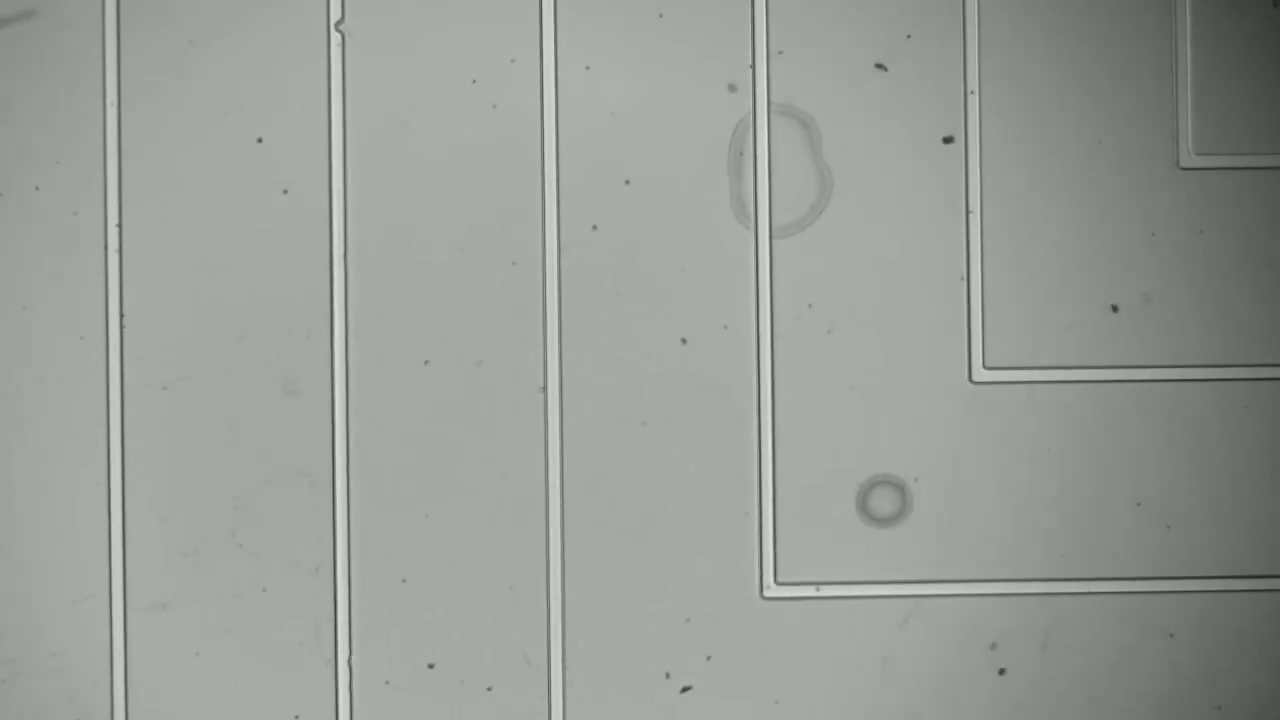edge_bite: (317, 8, 352, 43)
